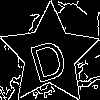D: (25, 30, 70, 84)
